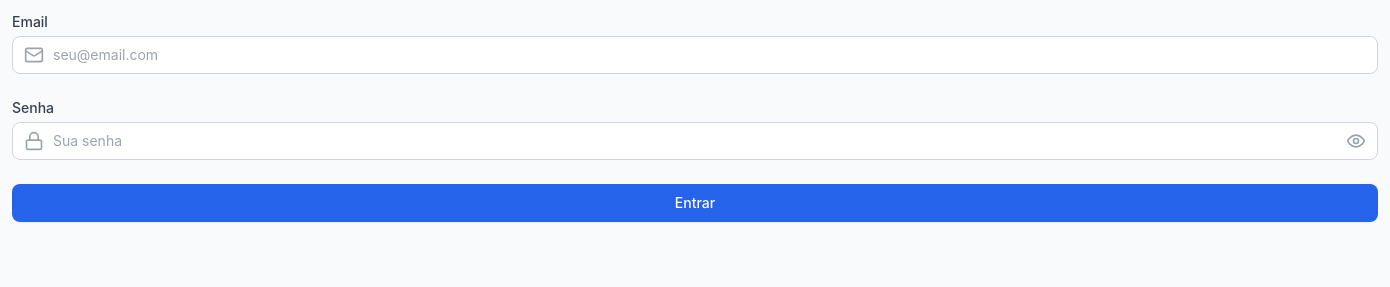
Test: LoginForm › deve validar tamanho mínimo da senha
Inserir senha muito curta
Type "123" into the password field with placeholder "Sua senha".
click(695, 141); type("123")  # box top-left (12, 122), bottom-right (1378, 160)
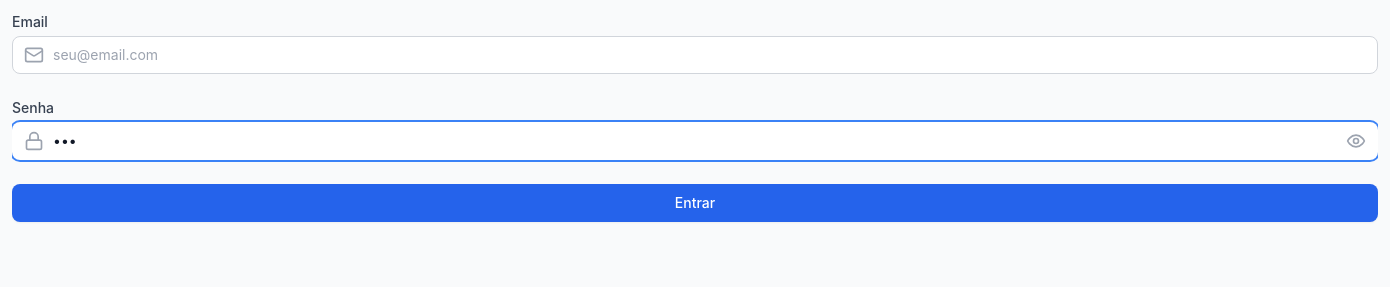
Click the button "Entrar".
click(695, 203)  # box top-left (12, 184), bottom-right (1378, 222)
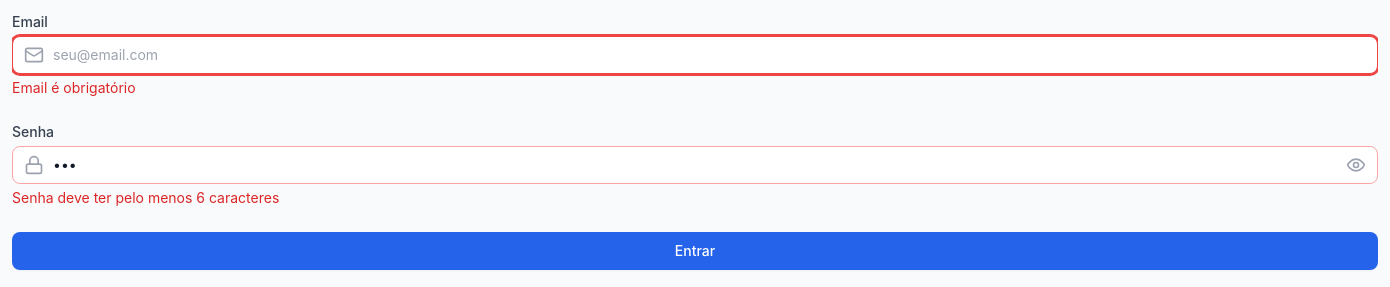
Now the text "Senha deve ter pelo menos 6 caracteres" is shown, box top-left (12, 189), bottom-right (279, 206)
